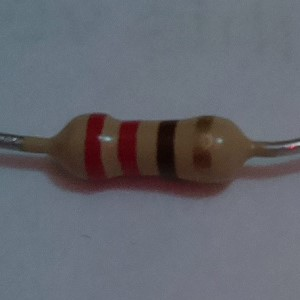brown_band: (154, 117, 182, 181)
gold_band: (190, 113, 216, 186)
red_band: (80, 110, 110, 182), (114, 118, 144, 180)
